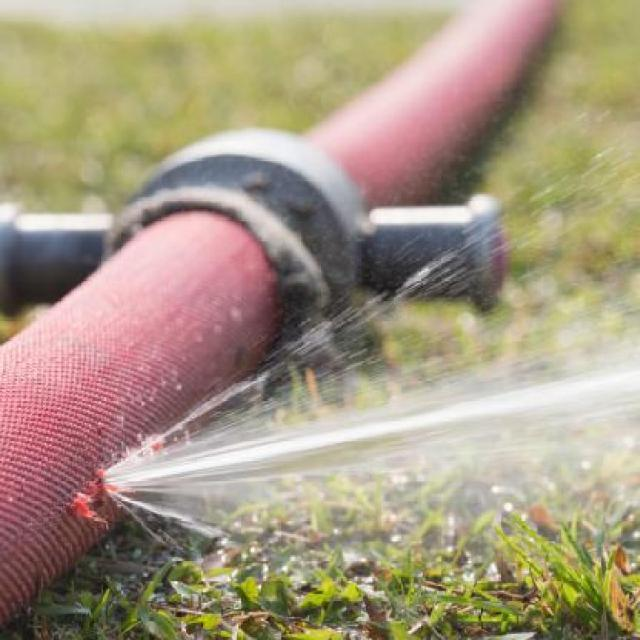leak: (105, 346, 640, 577)
